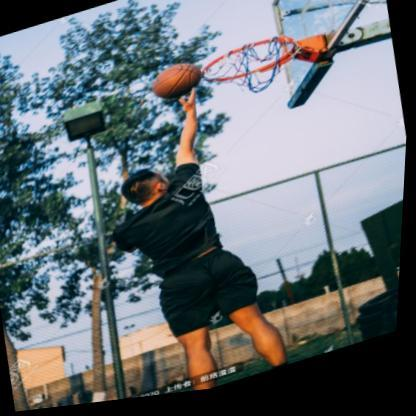basketball: (149, 61, 207, 109)
